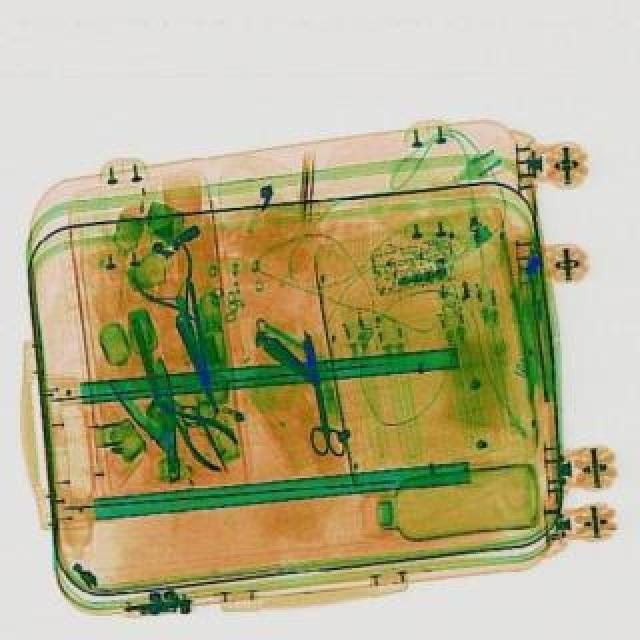pliers: (288, 330, 346, 458)
wrench: (144, 386, 244, 474)
